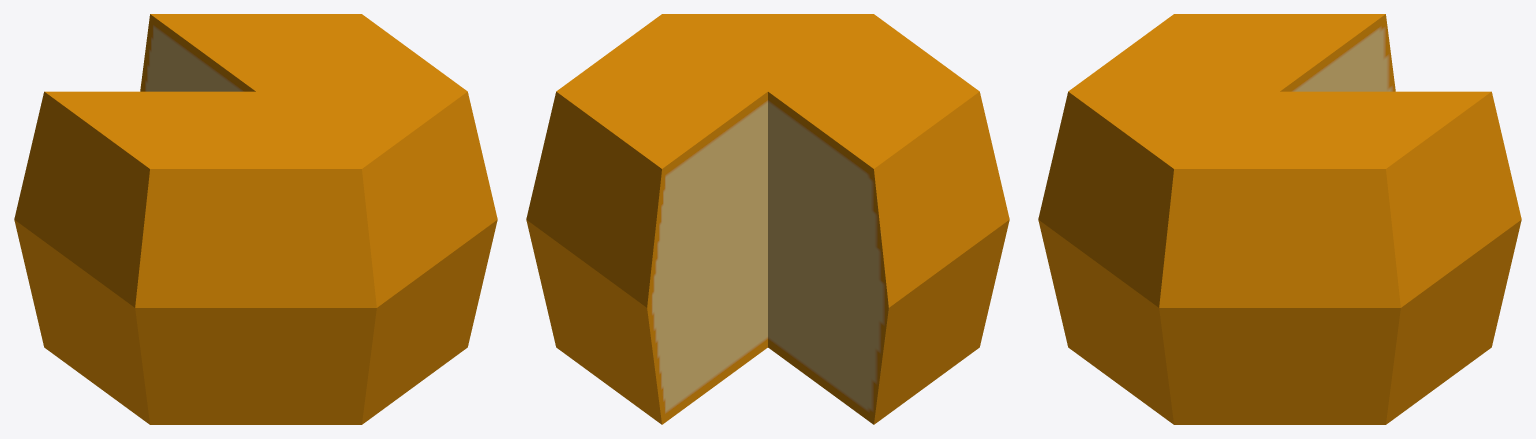
Rendered from Cheese.fbx.
3 renders of one model, left to right at view 1: azimuth 30°, elevation 25°; view 2: azimuth 150°, elevation 25°; view 3: azimuth 270°, elevation 25°, orthographic.
Visible parts, largest first — view 1: Cheese; view 2: Cheese; view 3: Cheese.
Part boxes in pixels (left/top/right/bottom): Cheese: left=14, top=14, right=497, bottom=424; Cheese: left=526, top=14, right=1009, bottom=424; Cheese: left=1038, top=14, right=1521, bottom=424.
Bounding box in the file's own units: 29.65 × 20 × 34.24.
2 materials, 2 textured.
